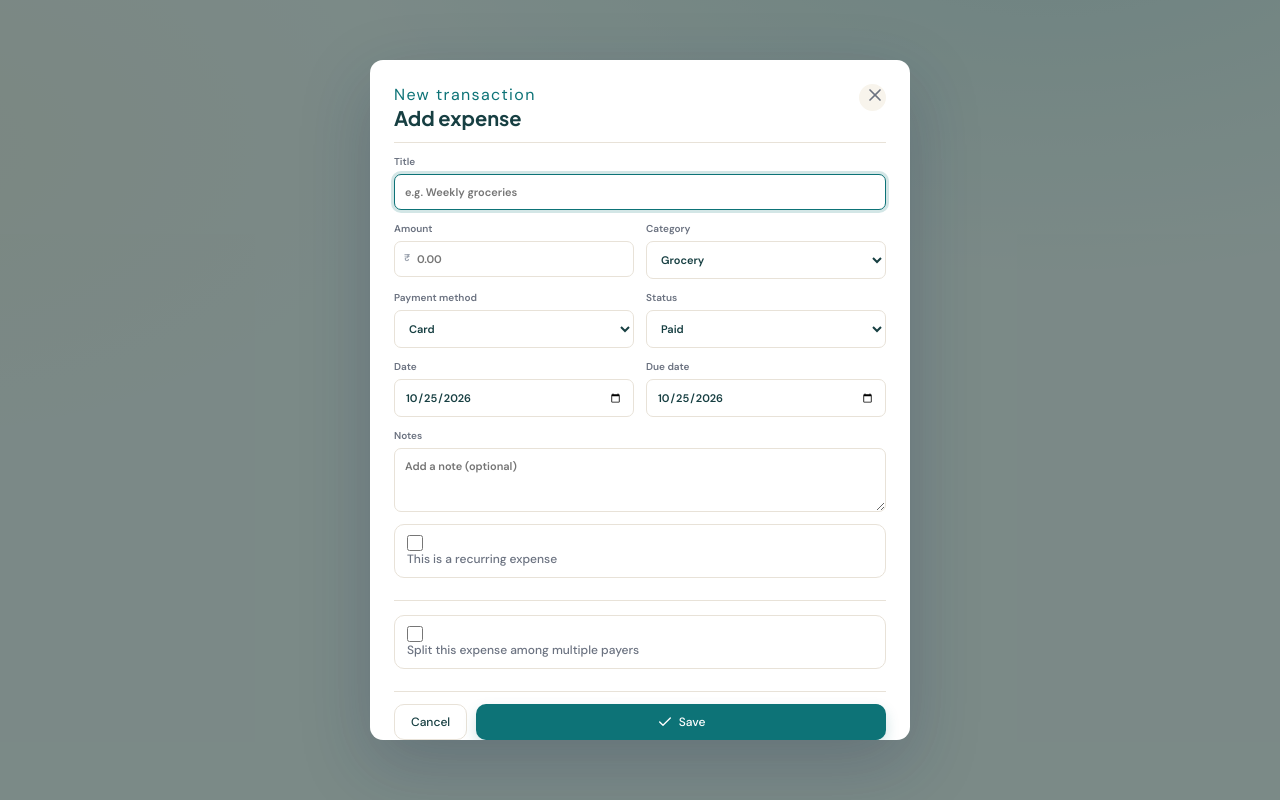
ExpenseModal › validates required fields on submit
In the number field with placeholder "0.00": (514, 259) [394, 241, 634, 277], type "-100"
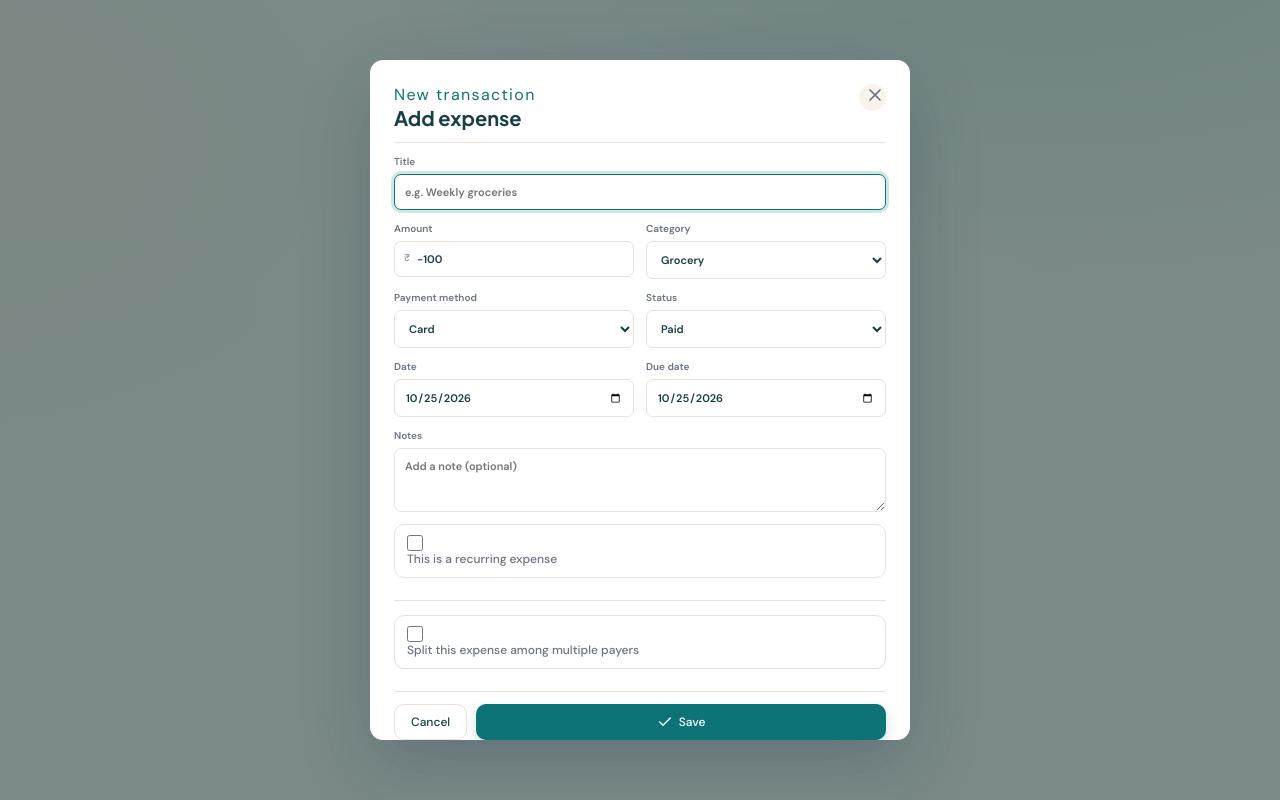
Click the button "Save": (681, 722) [476, 704, 886, 740]
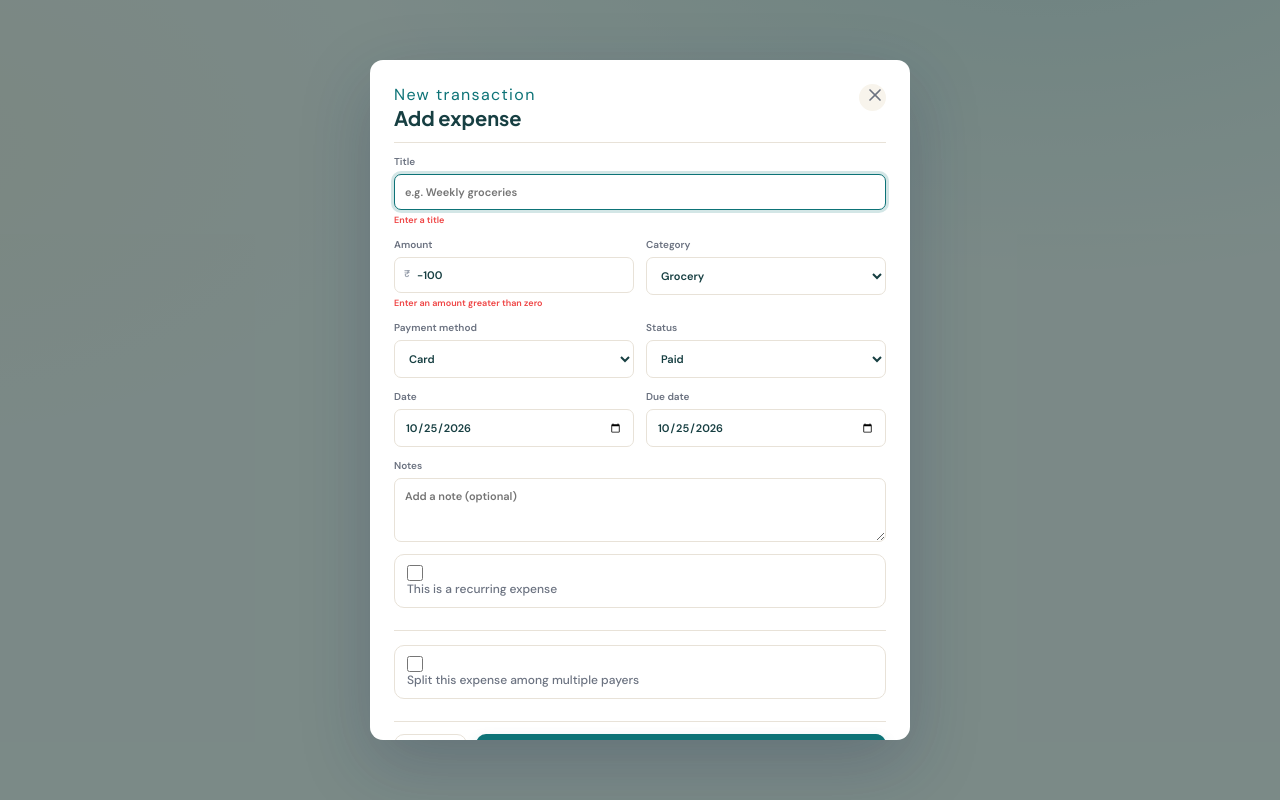
Result: the text "Enter a title" is shown at [394, 214, 444, 226]
Result: the text "Enter an amount greater than zero" is shown at [394, 297, 542, 309]
